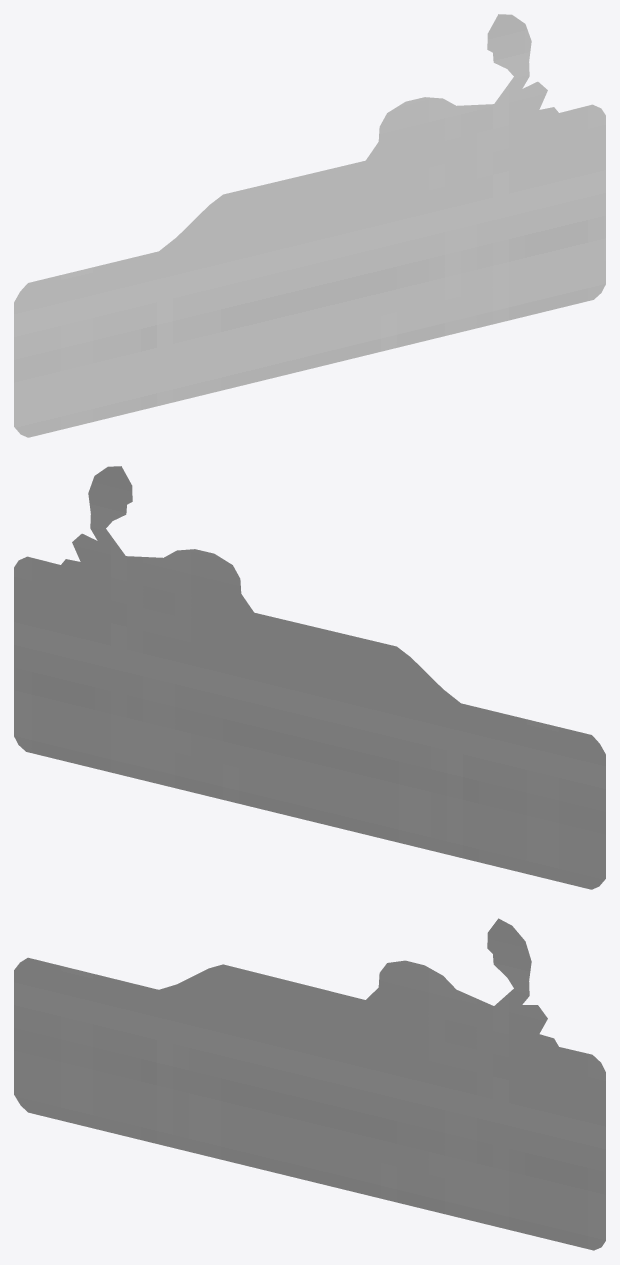
The model's file is pref_sm_city_holoall03_snow_lv1.fbx.
The picture shows the model from 3 angles, top to bottom: view 1: azimuth 30°, elevation 25°; view 2: azimuth 150°, elevation 25°; view 3: azimuth 330°, elevation 25°; orthographic projection.
Parts seen in each view (by area): view 1: pref_sm_city_holoall03_snow_lv1; view 2: pref_sm_city_holoall03_snow_lv1; view 3: pref_sm_city_holoall03_snow_lv1.
Part boxes in pixels (<box>): pref_sm_city_holoall03_snow_lv1: <box>14,14,605,437</box>; pref_sm_city_holoall03_snow_lv1: <box>14,466,605,889</box>; pref_sm_city_holoall03_snow_lv1: <box>14,918,605,1250</box>.
Bounding box in the file's own units: 11.76 × 5.87 × 2.58e-06.
